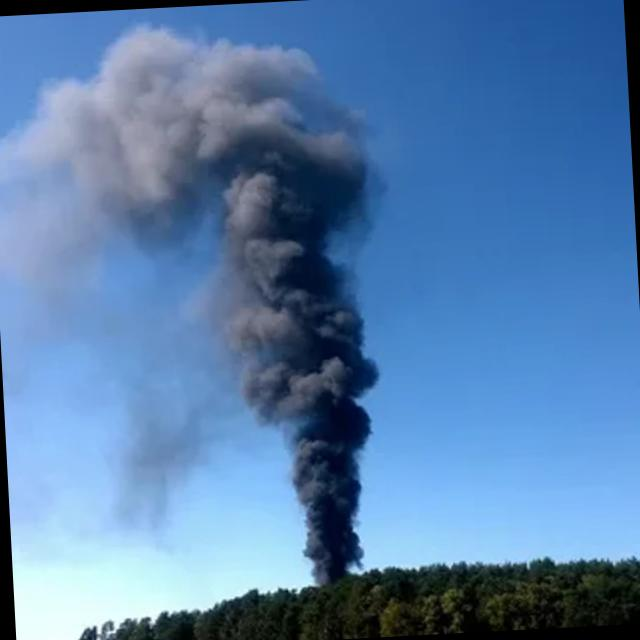Smoke: (108, 21, 400, 592)
